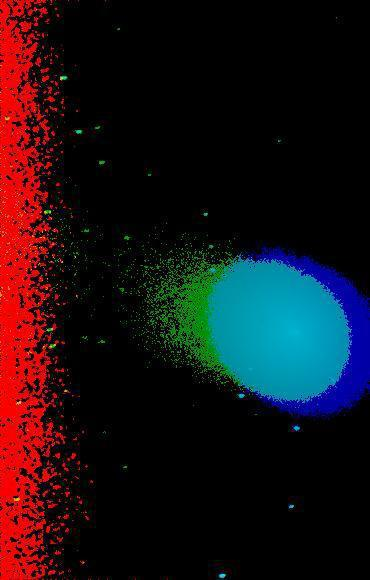star: (212, 74, 242, 104)
